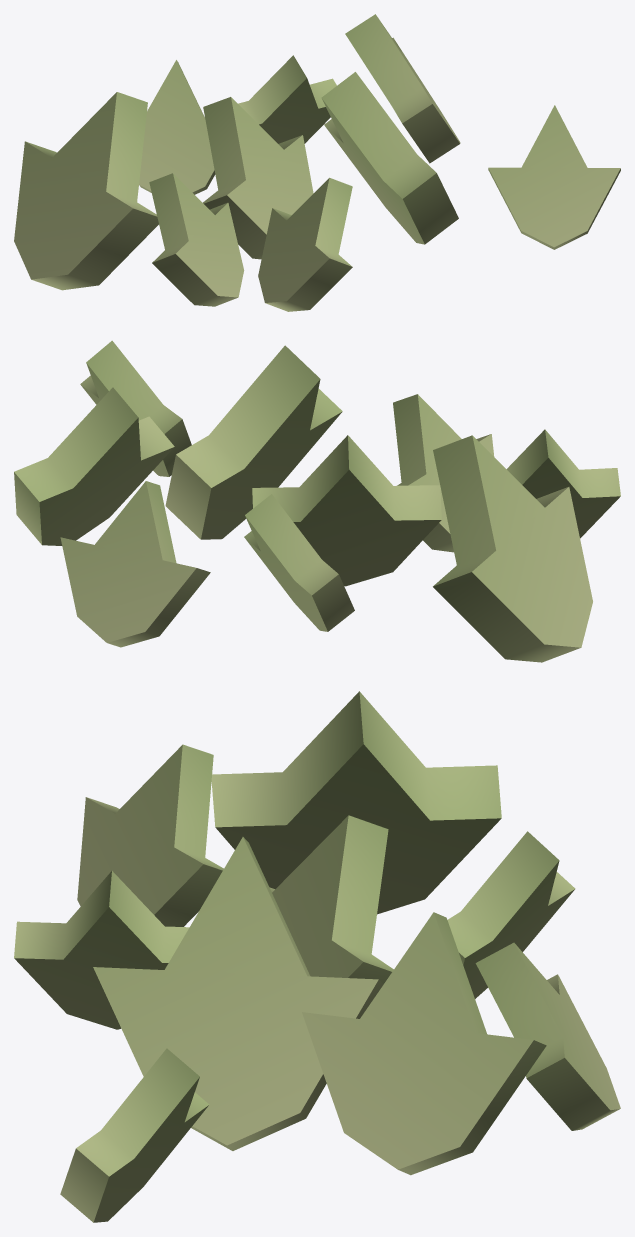
Rendered from wall-ivy-floor.glb.
The picture shows the model from 3 angles, top to bottom: view 1: azimuth 30°, elevation 25°; view 2: azimuth 150°, elevation 25°; view 3: azimuth 270°, elevation 25°; orthographic projection. The views are drawn at different scales.
Visible parts, largest first — view 1: wall-ivy-floor; view 2: wall-ivy-floor; view 3: wall-ivy-floor.
Boxes of the visible parts, x1=… form: wall-ivy-floor: x1=14, y1=14, x2=620, y2=311; wall-ivy-floor: x1=14, y1=340, x2=620, y2=662; wall-ivy-floor: x1=14, y1=691, x2=620, y2=1222.
Size of the model in its own units: 0.5387 by 0.1845 by 0.3718.
